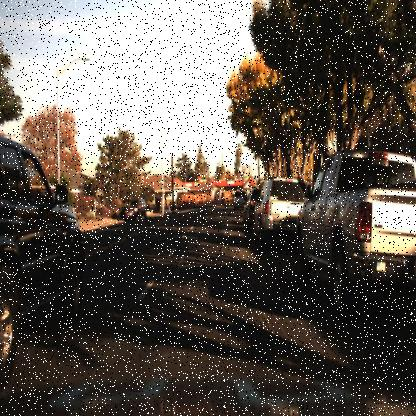car: (293, 148, 415, 322), (0, 140, 87, 380), (251, 174, 310, 245), (241, 184, 261, 236), (122, 194, 149, 222), (125, 194, 146, 220), (232, 188, 250, 212)
